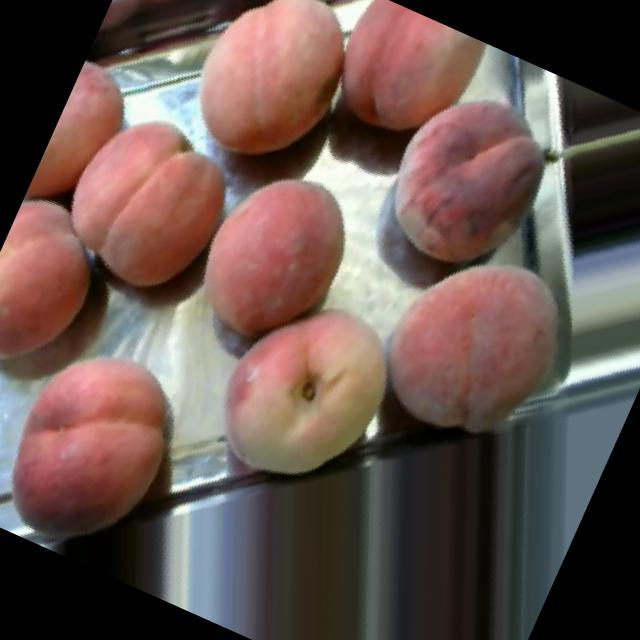Fruit: (322, 185, 636, 509), (156, 238, 452, 544), (328, 36, 593, 320), (0, 291, 235, 589), (157, 126, 404, 398), (23, 74, 263, 332), (146, 0, 398, 207), (285, 0, 521, 195), (0, 166, 153, 420), (6, 44, 142, 260)
